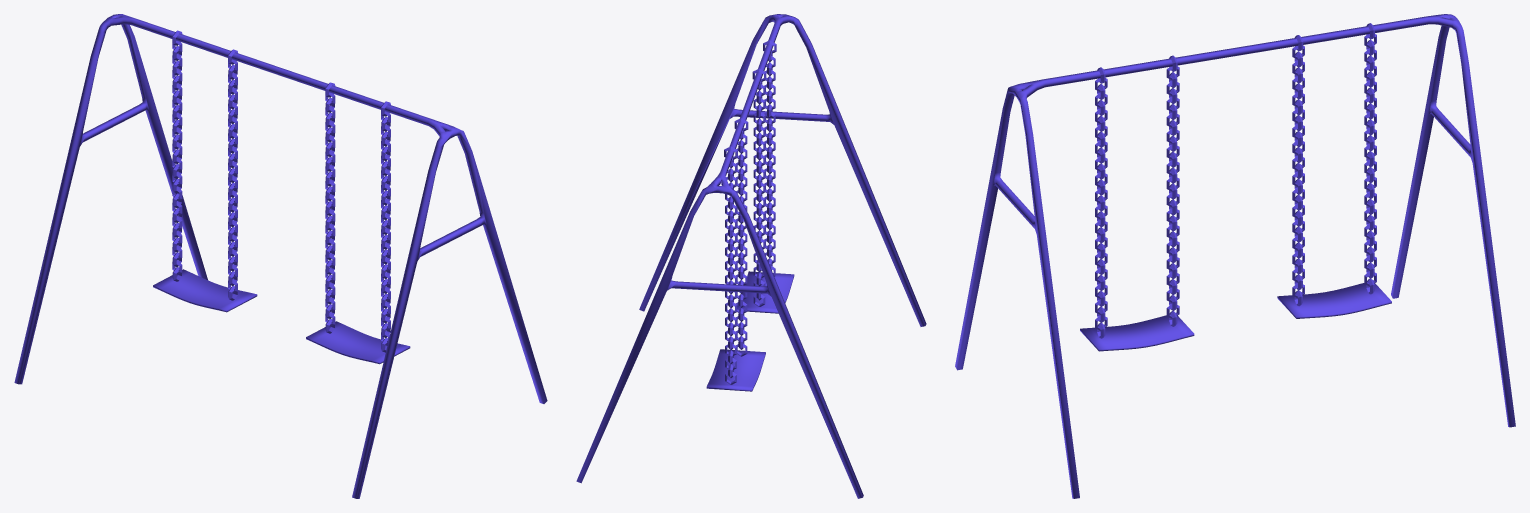
File: Thuri.fbx
The picture shows the model from 3 angles, left to right: view 1: azimuth 30°, elevation 25°; view 2: azimuth 150°, elevation 25°; view 3: azimuth 270°, elevation 25°; orthographic projection. The views are drawn at different scales.
Visible parts, largest first — view 1: Cube; view 2: Cube; view 3: Cube.
Part boxes in pixels (left/top/right/bottom): Cube: left=14, top=14, right=547, bottom=498; Cube: left=576, top=14, right=926, bottom=498; Cube: left=955, top=14, right=1515, bottom=498.
Bounding box in the file's own units: 219 × 179 × 257.
